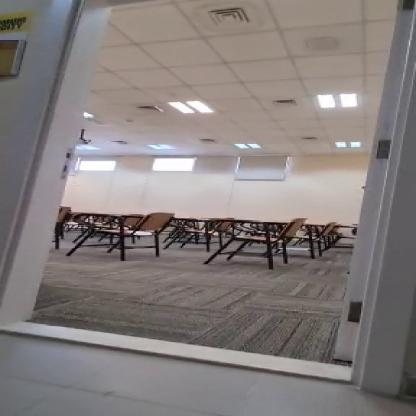open: (0, 0, 412, 404)
